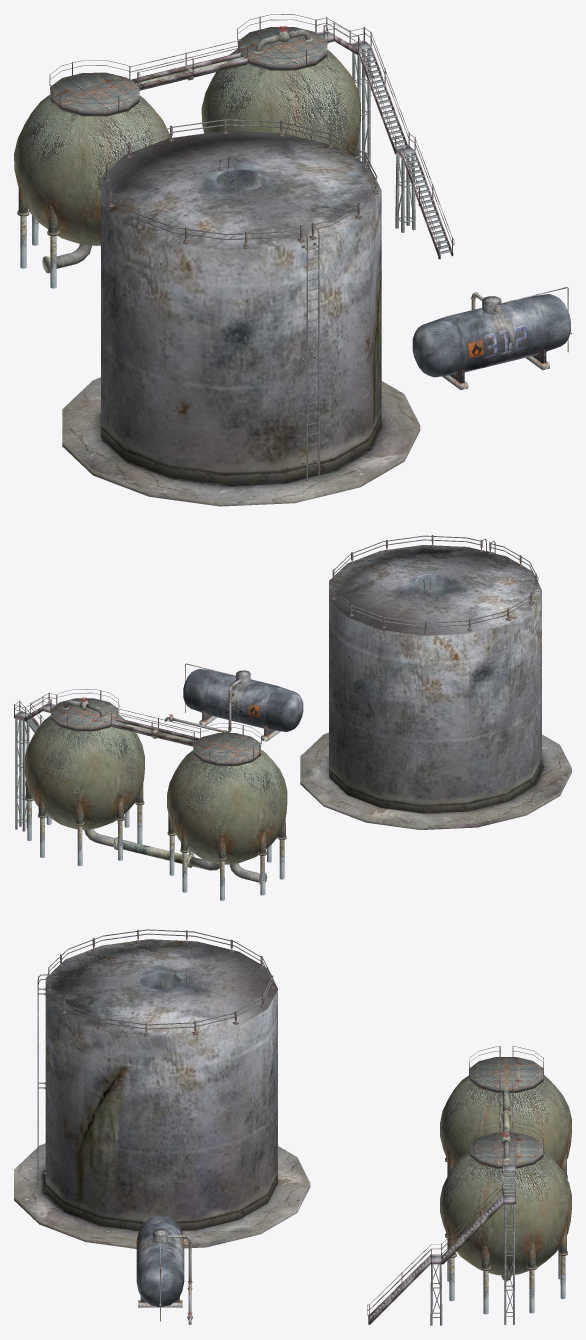
Rendered from tanks.glb.
The picture shows the model from 3 angles, top to bottom: view 1: azimuth 30°, elevation 25°; view 2: azimuth 150°, elevation 25°; view 3: azimuth 270°, elevation 25°; orthographic projection. The views are drawn at different scales.
Parts seen in each view (by area): view 1: pCylinder2, Round_TankB, Round_TankA, Long_Tank1:Long_TankA, StairA, StairB, polySurface496, Round_TankB_Legs, SupportA, SupportB, PipebendE; view 2: pCylinder2, Round_TankB, Round_TankA, Long_Tank1:Long_TankA, Round_TankB_Legs, Round_TankA_Legs, polySurface496, SupportB, SupportC, PipeA; view 3: pCylinder2, Round_TankA, Round_TankB, Long_Tank1:Long_TankA, Round_TankA_Legs, StairB, StairA.
Boxes of the visible parts, left/top/right/bottom form: pCylinder2: left=62, top=118, right=420, bottom=506; Round_TankB: left=14, top=72, right=170, bottom=245; Round_TankA: left=201, top=27, right=360, bottom=155; Long_Tank1:Long_TankA: left=412, top=294, right=570, bottom=389; StairA: left=395, top=132, right=454, bottom=259; StairB: left=349, top=26, right=408, bottom=153; polySurface496: left=129, top=40, right=247, bottom=89; Round_TankB_Legs: left=17, top=184, right=59, bottom=288; SupportA: left=395, top=153, right=415, bottom=232; SupportB: left=352, top=48, right=370, bottom=124; PipebendE: left=42, top=244, right=91, bottom=273; pCylinder2: left=300, top=535, right=571, bottom=829; Round_TankB: left=167, top=733, right=287, bottom=864; Round_TankA: left=24, top=698, right=144, bottom=829; Long_Tank1:Long_TankA: left=183, top=668, right=303, bottom=741; Round_TankB_Legs: left=167, top=814, right=286, bottom=900; Round_TankA_Legs: left=25, top=779, right=144, bottom=865; polySurface496: left=111, top=708, right=200, bottom=745; SupportB: left=15, top=719, right=29, bottom=775; SupportC: left=15, top=771, right=27, bottom=831; PipeA: left=115, top=837, right=190, bottom=863; pCylinder2: left=14, top=929, right=310, bottom=1248; Round_TankA: left=440, top=1132, right=571, bottom=1275; Round_TankB: left=440, top=1057, right=571, bottom=1167; Long_Tank1:Long_TankA: left=136, top=1216, right=184, bottom=1307; Round_TankA_Legs: left=445, top=1227, right=567, bottom=1314; StairB: left=441, top=1182, right=516, bottom=1264; StairA: left=367, top=1243, right=441, bottom=1324.
Size of the model in its own units: 28.42 by 14.38 by 33.45.
Materials: 5 (5 with a texture image).
